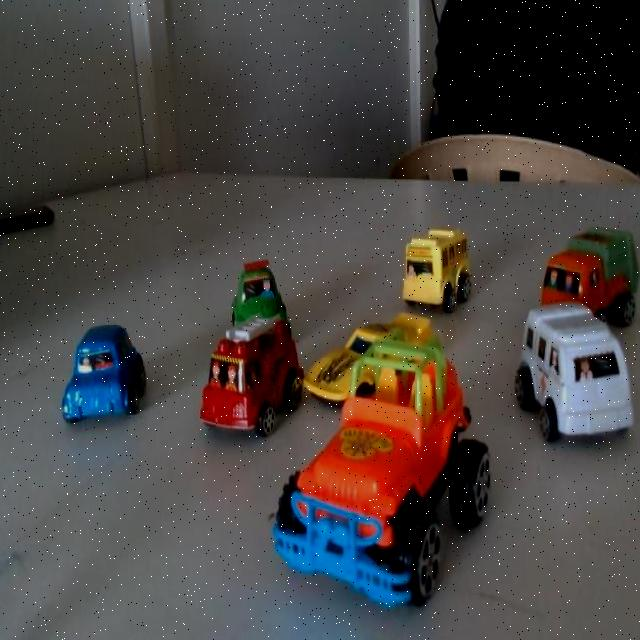car: (264, 416, 419, 608), (47, 312, 152, 450), (305, 310, 418, 421), (519, 317, 625, 430), (194, 317, 281, 448), (528, 220, 624, 335), (221, 262, 285, 350), (394, 220, 455, 309)
